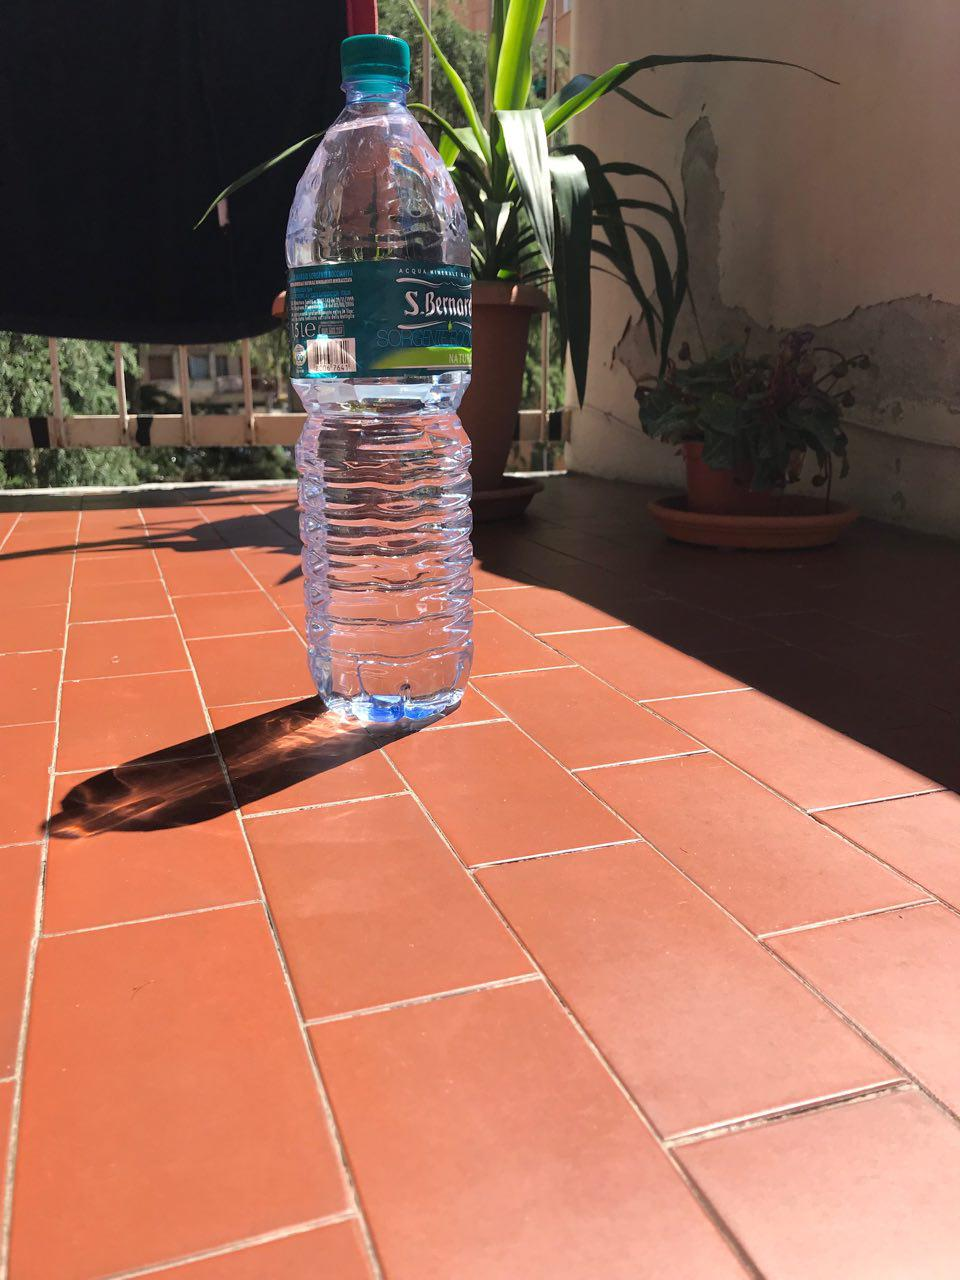san_bernardo: (284, 33, 475, 723)
